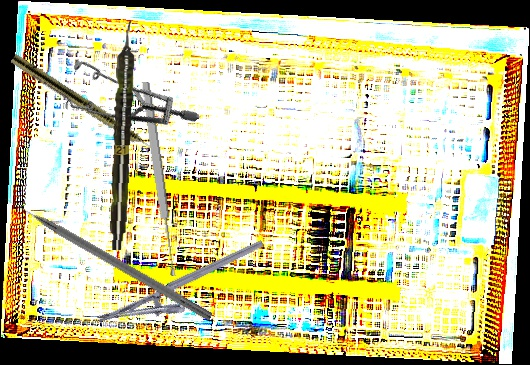Handpiece: (8, 52, 169, 164), (107, 20, 139, 251)
Hook Surgical: (2, 192, 215, 323)
Needle Holder: (96, 239, 275, 346)
Speculum: (46, 24, 201, 180)
Surgical Spoon: (139, 81, 179, 277)
